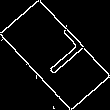L_SW: (25, 27, 85, 83)
